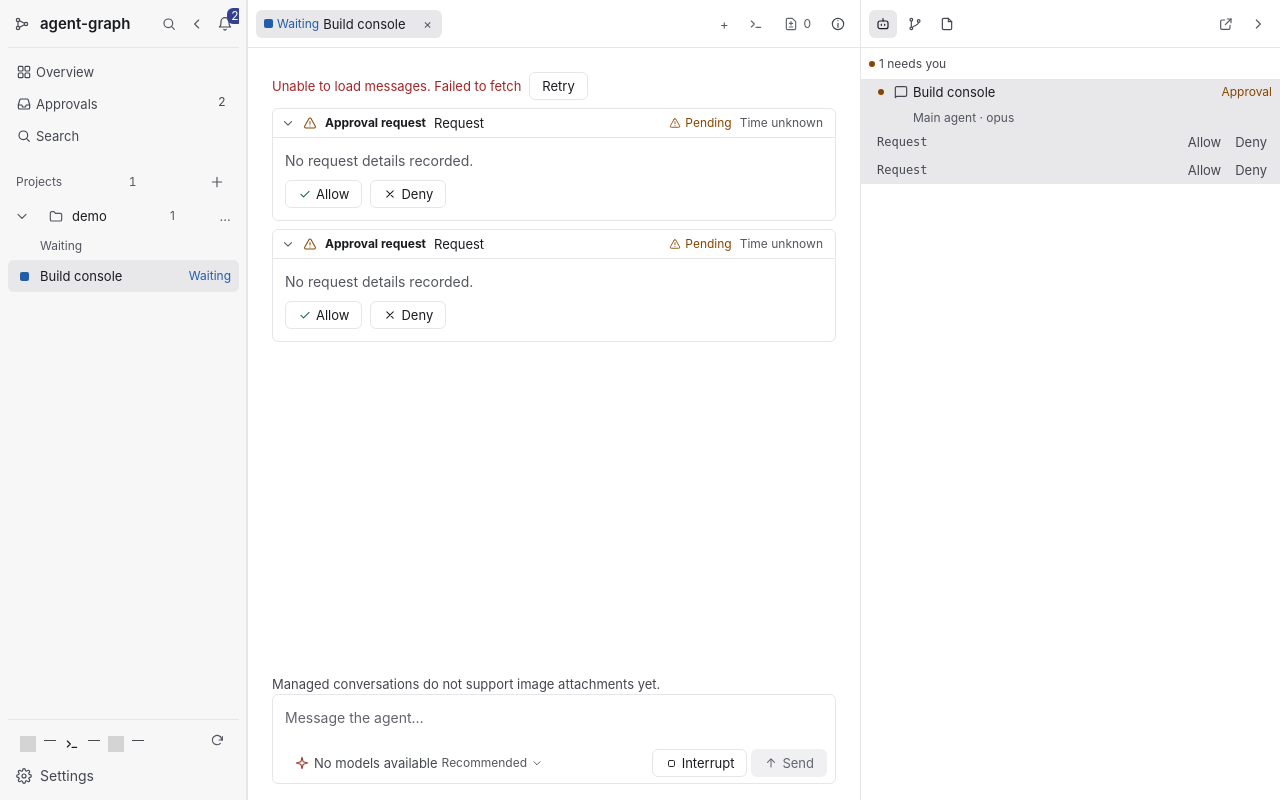
it: closes the claude composer model menu before the App interrupt shortcut, even from outside the menu
Click the button with aria-label "Model · ": (418, 763) [281,749,556,777]
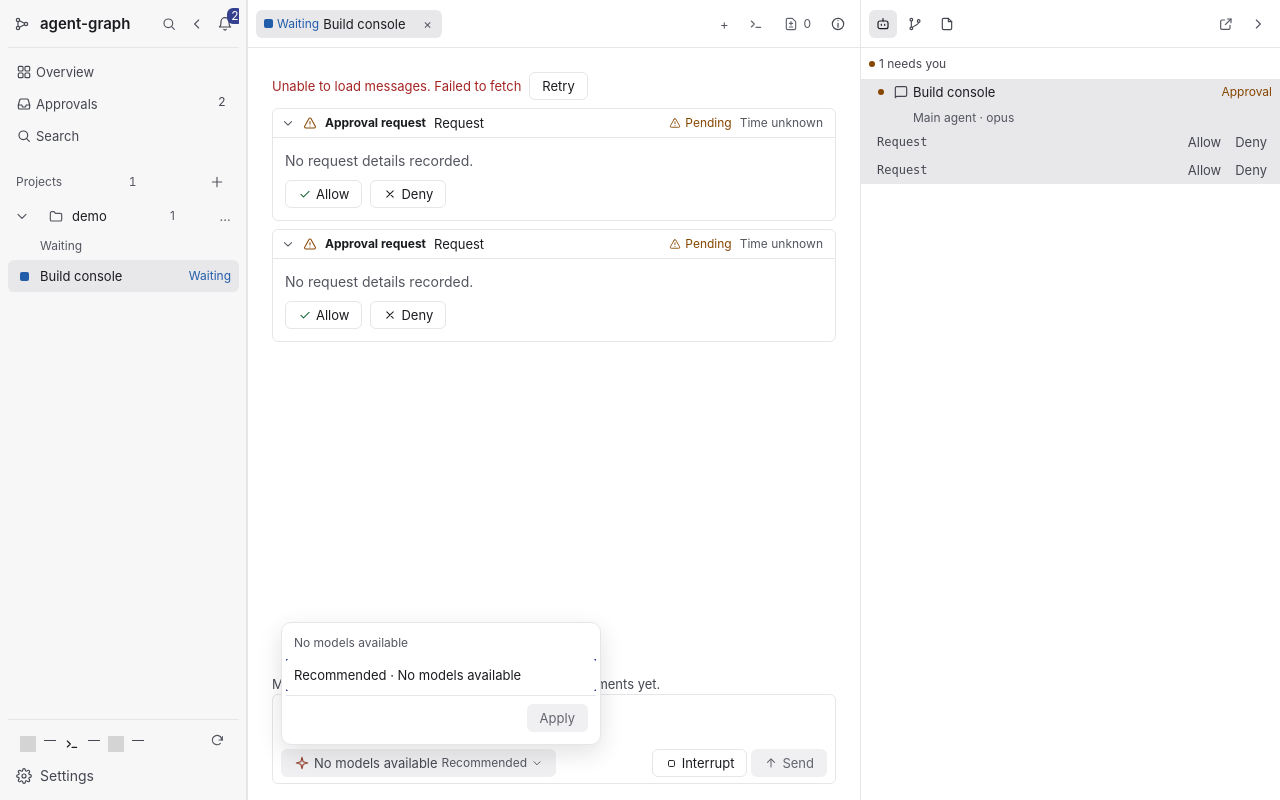
Expected: the menu is shown, [281,622,601,745]
Press Escape
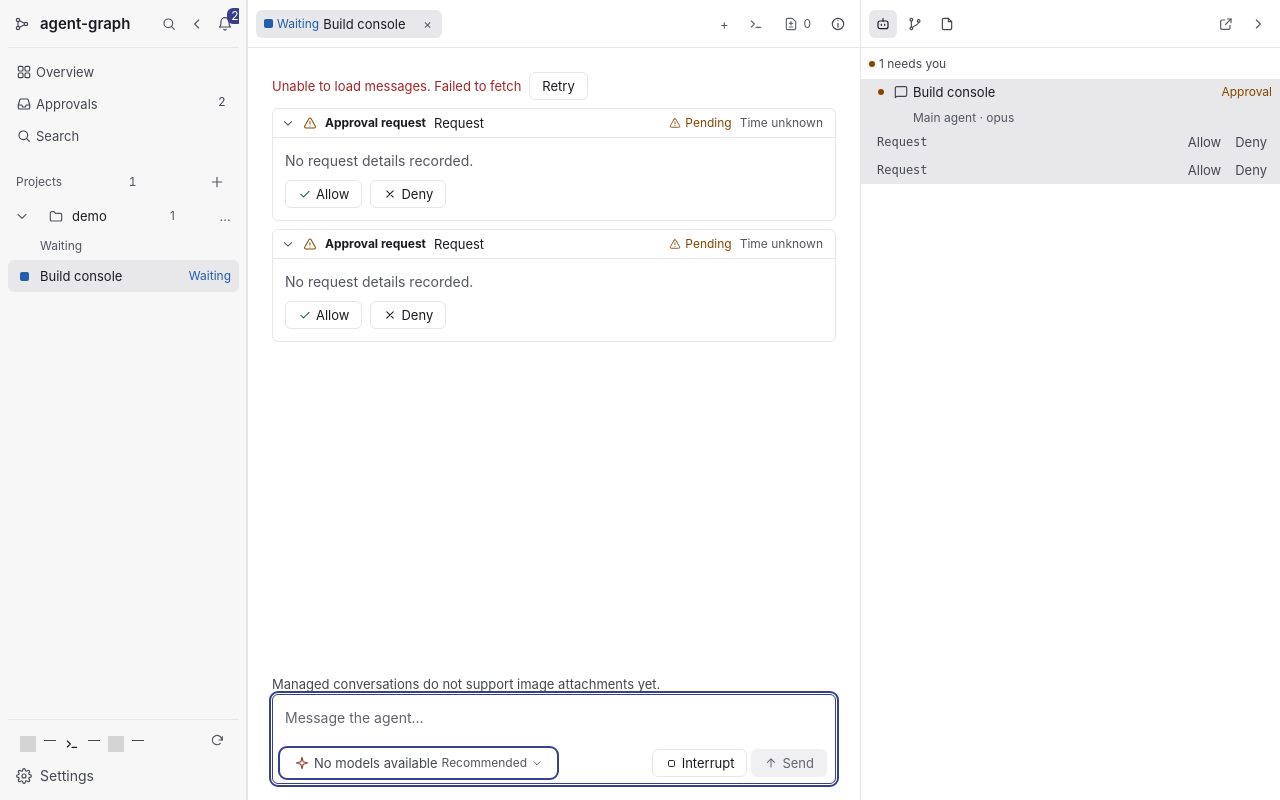
Expected: the dialog "Interrupt run?" is not shown
Expected: the menu is gone
Press Escape
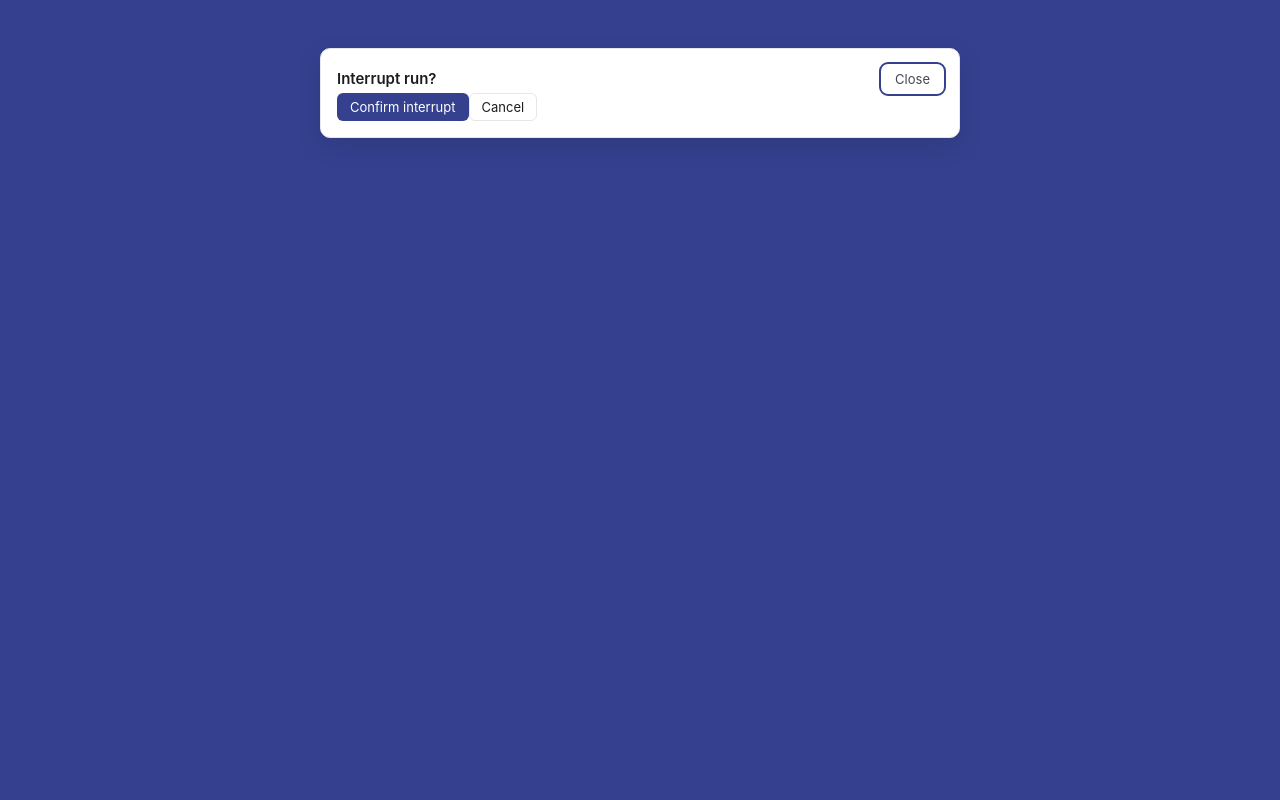
Expected: the dialog "Interrupt run?" is shown, [320,48,960,138]
